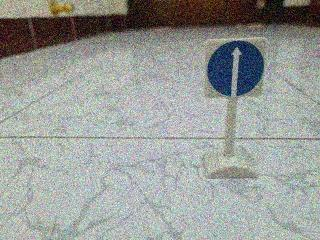straight: (205, 38, 266, 98)
